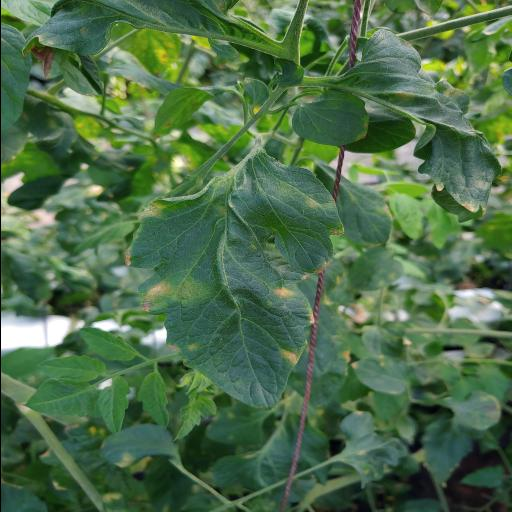Leaf Mold: (126, 153, 344, 411), (332, 30, 502, 224)
